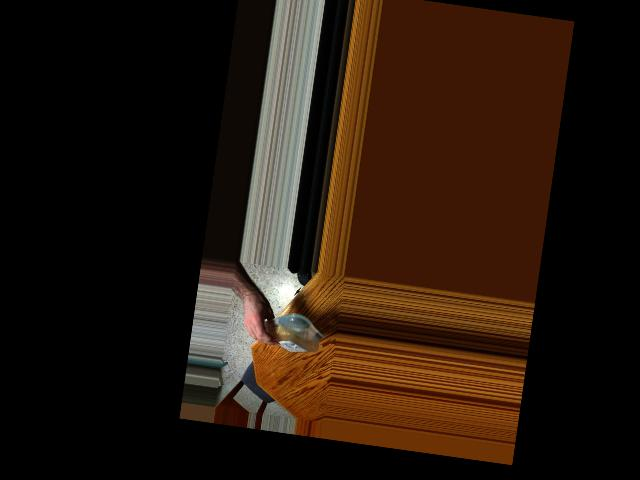cheese: (249, 310, 325, 357)
